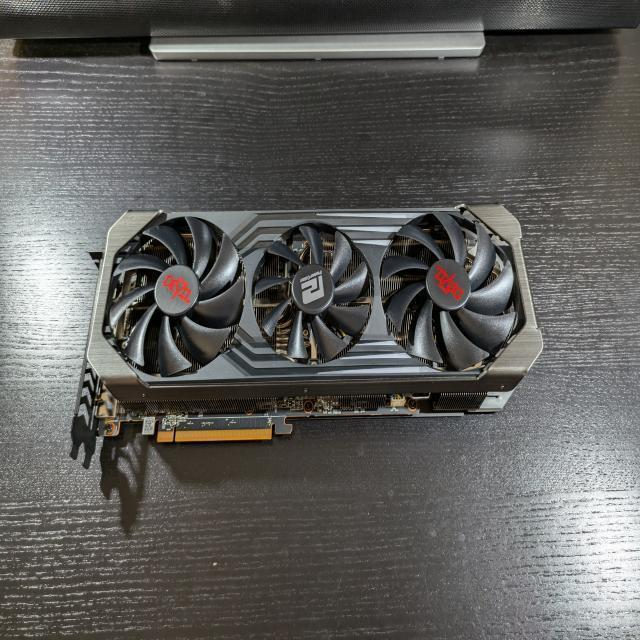GPU: (72, 199, 546, 457)
